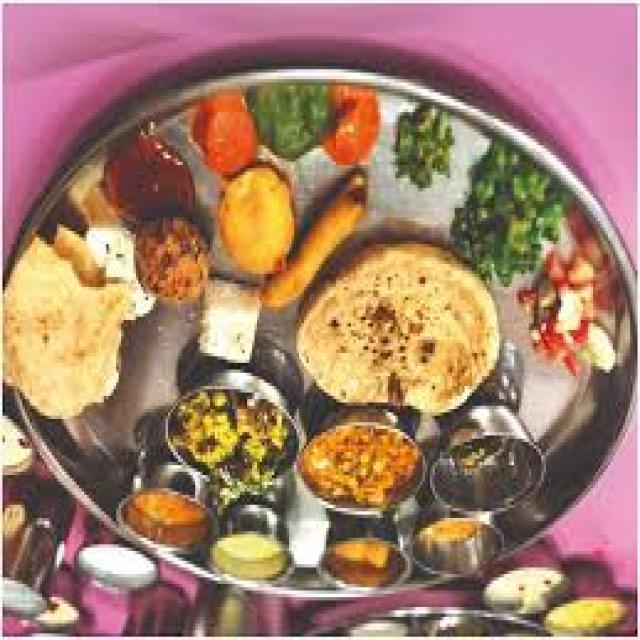dal: (214, 169, 302, 281), (209, 513, 295, 588), (542, 594, 631, 636)
papad: (1, 249, 133, 422)
raita: (1, 406, 34, 477)
roti: (305, 236, 511, 420), (2, 243, 132, 419)
sambar-rasam: (101, 134, 197, 233), (116, 483, 217, 556)
sweet: (487, 564, 570, 616)
veg-fry: (290, 408, 432, 517)
